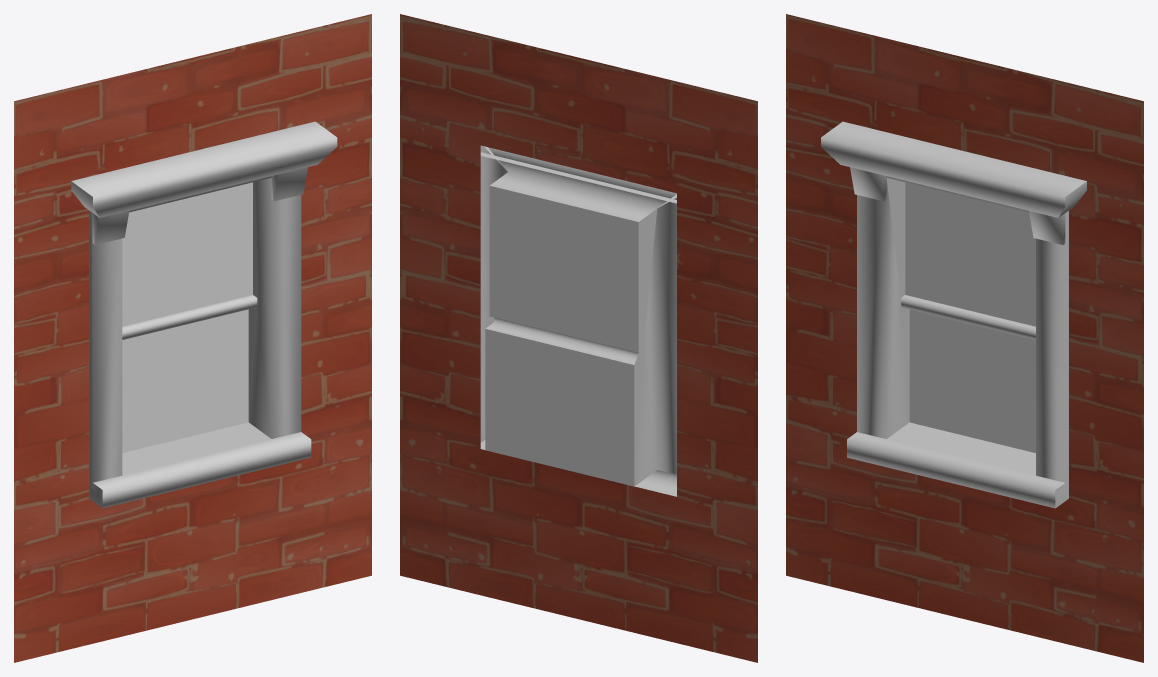
The model's file is Window_01.fbx.
3 views of the same model, side by side, from view 1: azimuth 30°, elevation 25°; view 2: azimuth 150°, elevation 25°; view 3: azimuth 330°, elevation 25° (orthographic).
Visible parts, largest first — view 1: Window_01.001; view 2: Window_01.001; view 3: Window_01.001.
Part boxes in pixels (x1=…): Window_01.001: x1=14, y1=14, x2=371, y2=662; Window_01.001: x1=400, y1=14, x2=757, y2=662; Window_01.001: x1=786, y1=14, x2=1143, y2=662.
Bounding box in the file's own units: 2 × 3 × 0.397.
